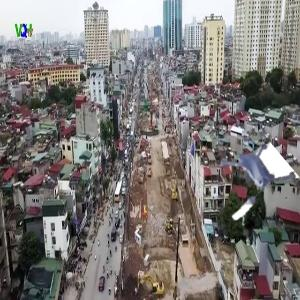drone: (202, 133, 286, 217)
